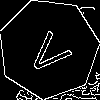V: (24, 24, 79, 79)
